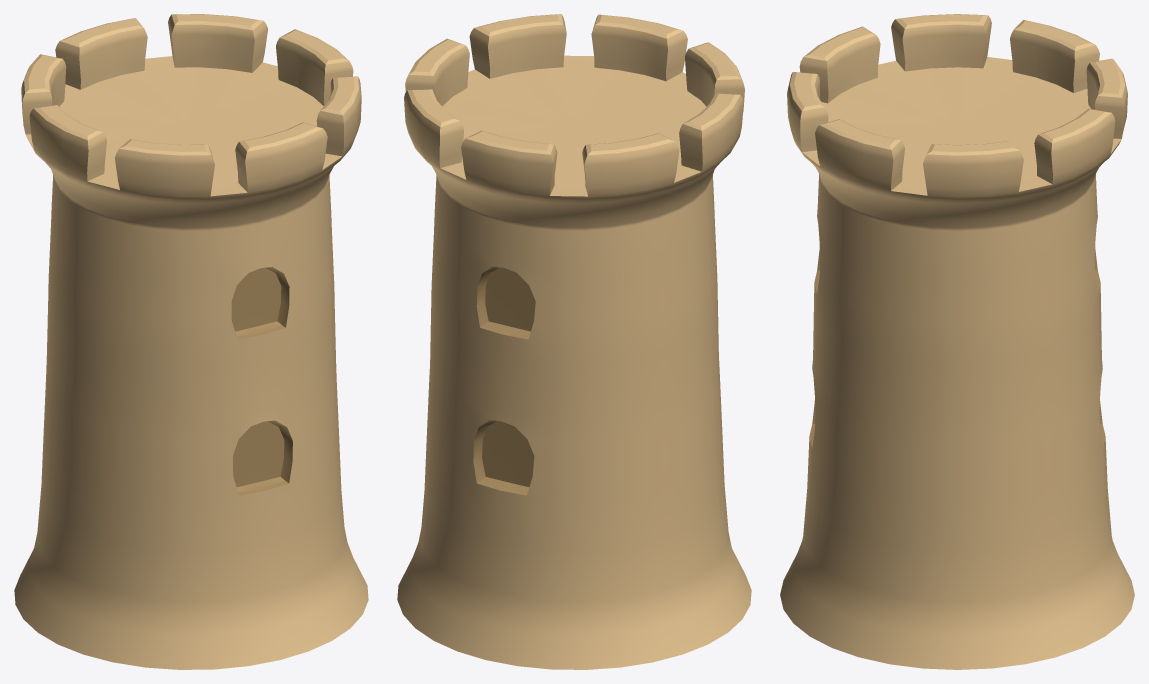
Rendered from CastleTowerTall.fbx.
3 views of the same model, side by side, from view 1: azimuth 30°, elevation 25°; view 2: azimuth 150°, elevation 25°; view 3: azimuth 270°, elevation 25° (orthographic).
Visible parts, largest first — view 1: Cylinder.065; view 2: Cylinder.065; view 3: Cylinder.065.
Boxes of the visible parts, <box> form: Cylinder.065: <box>14,14,368,669</box>; Cylinder.065: <box>397,14,751,669</box>; Cylinder.065: <box>780,14,1134,669</box>.
Bounding box in the file's own units: 379 × 603 × 379.
